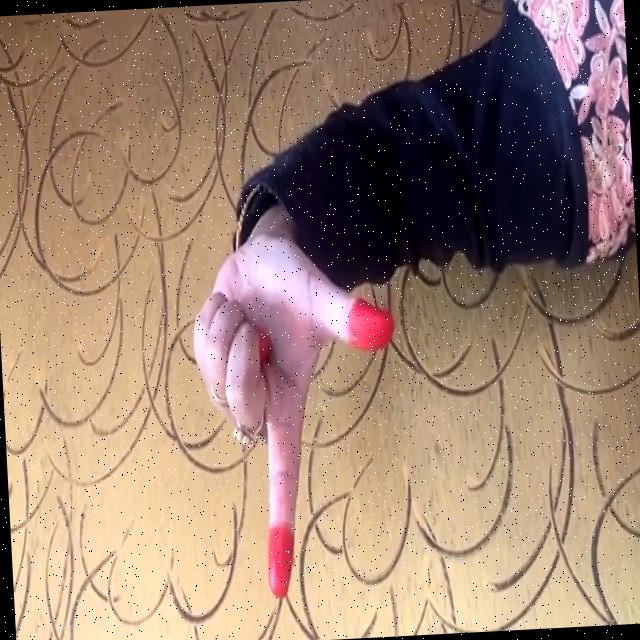Chandrakala: (170, 215, 422, 604)
